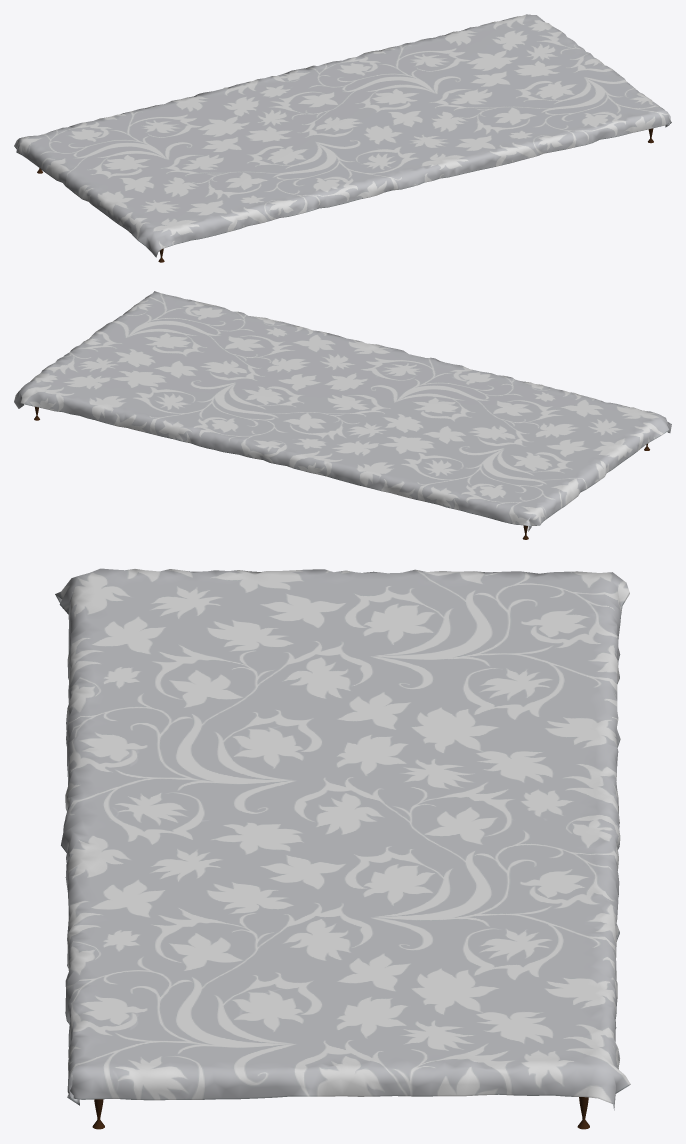
The model's file is table short.FBX.
The picture shows the model from 3 angles, top to bottom: view 1: azimuth 30°, elevation 25°; view 2: azimuth 150°, elevation 25°; view 3: azimuth 270°, elevation 25°; orthographic projection. The views are drawn at different scales.
Parts seen in each view (by area): view 1: Rectangle001; view 2: Rectangle001; view 3: Rectangle001.
Boxes of the visible parts, <box> form: Rectangle001: <box>14,14,671,257</box>; Rectangle001: <box>14,291,671,531</box>; Rectangle001: <box>55,568,630,1110</box>.
Size of the model in its own units: 408 by 25.75 by 192.
Materials: 2 (1 with a texture image).
